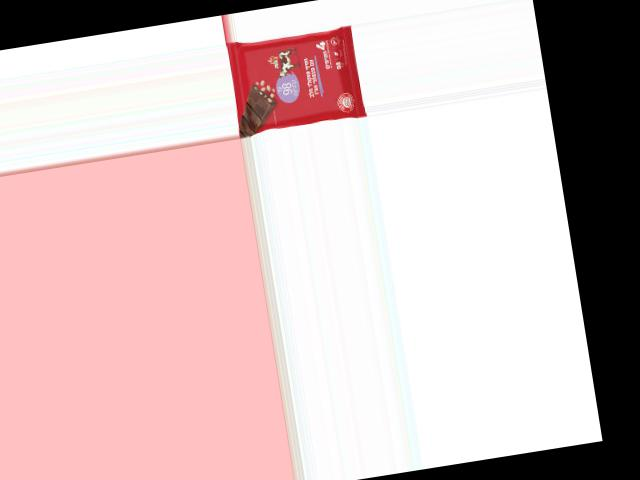chocolate: (226, 23, 367, 134)
